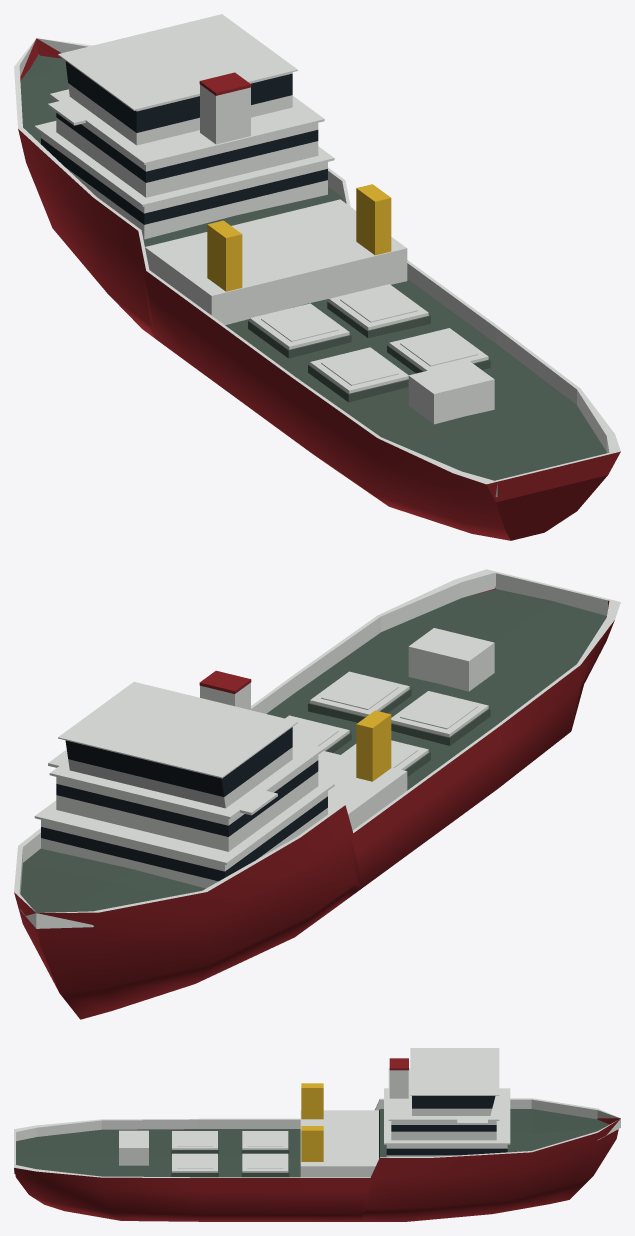
File: wellboat_LOD2.glb
3 views of the same model, one above another, from view 1: azimuth 30°, elevation 25°; view 2: azimuth 150°, elevation 25°; view 3: azimuth 270°, elevation 25° (orthographic). The views are drawn at different scales.
Visible parts, largest first — view 1: Superstructure, Hull, Deck, Windows, Crane; view 2: Superstructure, Hull, Deck, Windows, Crane; view 3: Hull, Superstructure, Deck, Windows, Crane.
Boxes of the visible parts, <box> form: Superstructure: <box>14,14,620,497</box>; Hull: <box>18,38,620,540</box>; Deck: <box>20,54,606,480</box>; Windows: <box>41,61,327,224</box>; Crane: <box>207,184,391,291</box>; Superstructure: <box>14,569,620,928</box>; Hull: <box>14,586,614,1019</box>; Deck: <box>20,589,606,912</box>; Windows: <box>41,727,327,881</box>; Crane: <box>356,710,391,781</box>; Hull: <box>14,1058,620,1221</box>; Superstructure: <box>14,1048,620,1177</box>; Deck: <box>16,1109,609,1177</box>; Windows: <box>386,1096,507,1155</box>; Crane: <box>301,1083,323,1161</box>.
Bounding box in the file's own units: 17.8 × 19.1 × 76.96.
